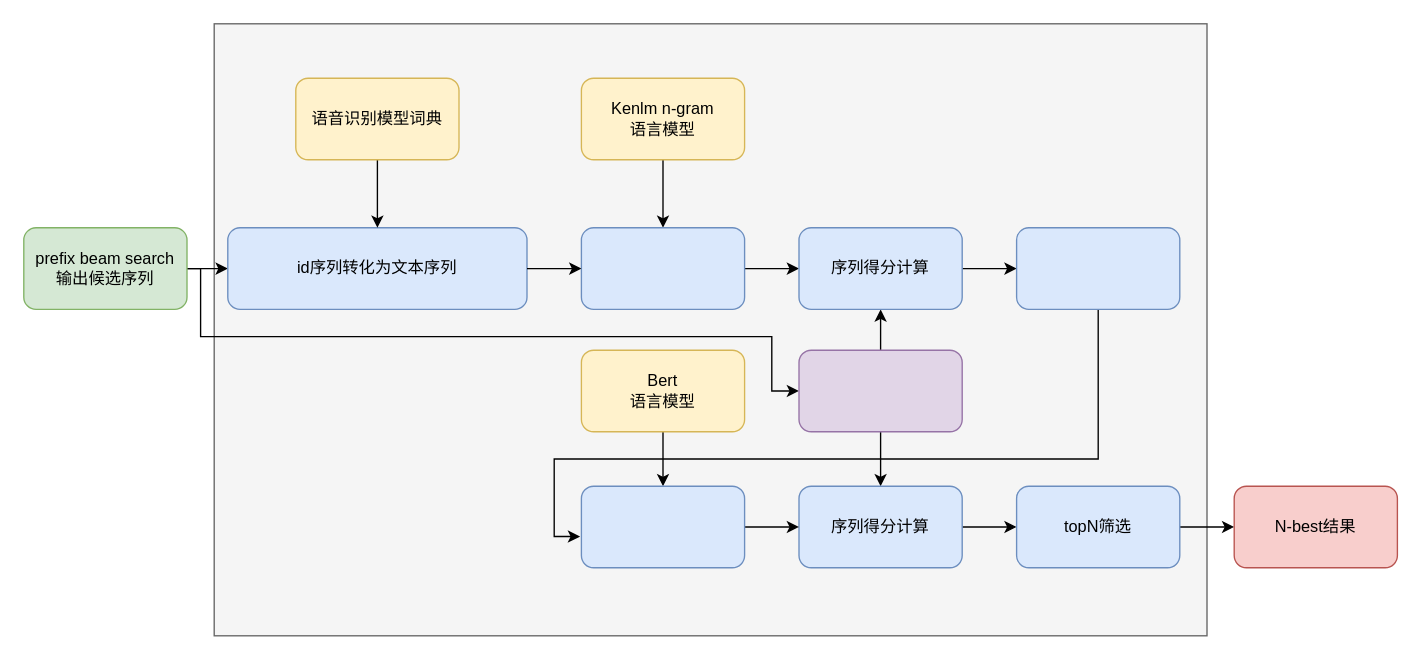
The diagram is 1421 pixels wide and 660 high, and some of its shapes have lost their labels. The centre of each missing label's shape, as x and y in pixels:
bert词得分计算: point 662,526
ngram词得分计算: point 662,267
top2N筛选: point 1097,267
不确信帧index: point 880,390
